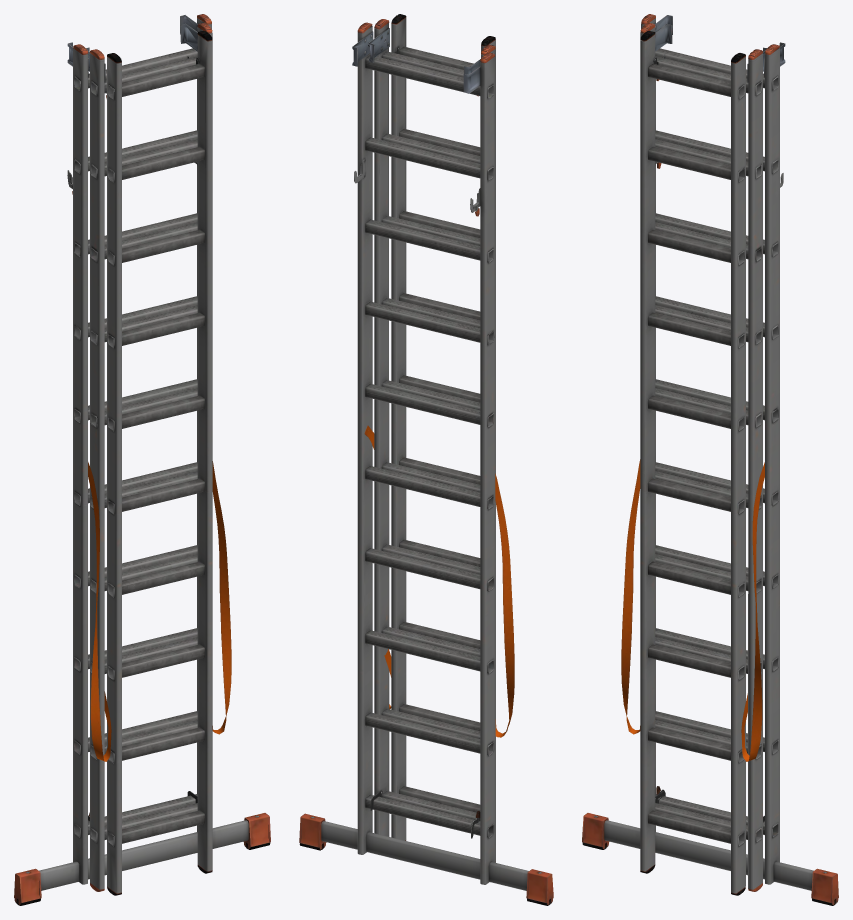
Rendered from ladder_sectioned_01.glb.
The picture shows the model from 3 angles, left to right: view 1: azimuth 30°, elevation 25°; view 2: azimuth 150°, elevation 25°; view 3: azimuth 330°, elevation 25°; orthographic projection.
Visible parts, largest first — view 1: ladder_section_01; view 2: ladder_section_01; view 3: ladder_section_01.
Part boxes in pixels (x1=…): ladder_section_01: x1=14, y1=14, x2=270, y2=905; ladder_section_01: x1=299, y1=14, x2=553, y2=905; ladder_section_01: x1=582, y1=14, x2=838, y2=905.
Bounding box in the file's own units: 0.6616 × 2.13 × 0.1777.
1 material, 1 textured.
